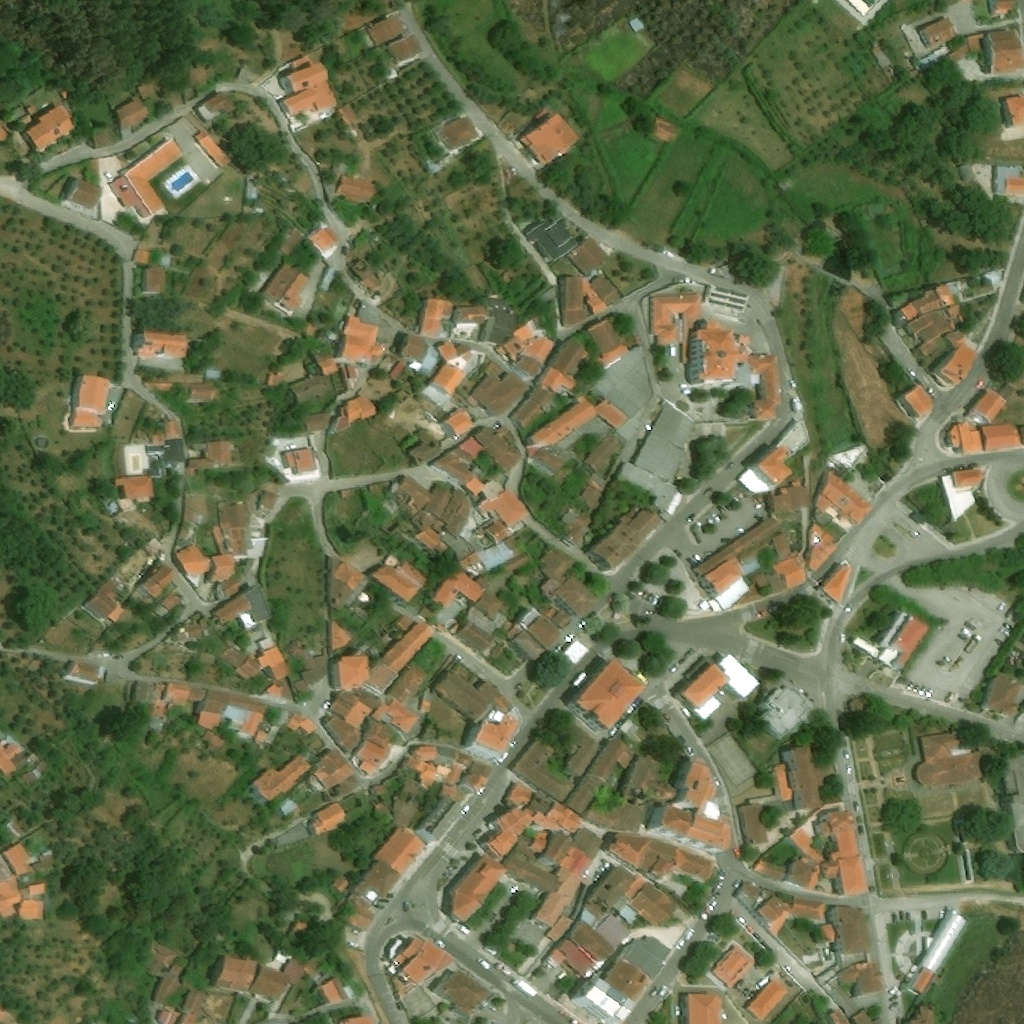0 no-damage: (687, 320, 780, 419), (650, 759, 727, 858), (566, 657, 647, 733), (908, 911, 968, 997), (532, 394, 632, 444), (697, 517, 781, 575), (595, 502, 665, 570), (590, 343, 653, 417), (125, 138, 185, 215), (512, 735, 576, 804), (916, 729, 989, 788), (452, 854, 509, 925), (616, 459, 685, 517), (433, 669, 502, 721), (281, 56, 338, 116), (517, 113, 581, 166), (392, 936, 458, 987), (815, 469, 875, 525), (553, 714, 604, 777), (378, 622, 434, 675), (253, 755, 312, 805), (574, 976, 636, 1023), (535, 866, 582, 927), (589, 865, 646, 915), (883, 611, 931, 670), (470, 372, 531, 418), (258, 261, 311, 312), (524, 217, 580, 265), (432, 970, 490, 1016), (487, 805, 536, 859), (760, 686, 807, 742), (636, 433, 689, 482), (649, 296, 701, 345), (416, 795, 466, 844), (25, 103, 77, 150), (818, 908, 872, 952), (377, 826, 426, 874), (588, 738, 639, 784), (504, 855, 564, 894), (942, 468, 984, 523), (587, 317, 631, 369), (70, 375, 112, 429), (431, 569, 485, 609), (652, 402, 697, 450), (682, 663, 730, 708), (556, 573, 604, 617), (624, 936, 673, 979), (630, 883, 679, 926), (819, 810, 861, 860), (481, 489, 532, 529), (774, 748, 806, 811), (338, 321, 387, 362), (719, 654, 763, 699), (711, 944, 755, 989), (476, 428, 522, 471), (606, 959, 652, 1002), (573, 919, 617, 963), (110, 174, 153, 219), (746, 978, 790, 1021), (354, 860, 402, 899), (585, 524, 624, 572), (548, 939, 597, 977), (583, 433, 626, 476), (511, 385, 553, 429), (370, 566, 421, 602), (292, 654, 331, 701), (584, 801, 647, 830), (311, 749, 355, 790), (566, 237, 610, 278), (756, 894, 795, 940), (217, 500, 249, 556), (838, 961, 886, 998), (628, 751, 670, 793), (475, 714, 521, 752), (824, 856, 868, 895), (639, 843, 682, 882), (938, 344, 981, 383), (211, 956, 255, 994), (205, 690, 269, 715), (136, 330, 189, 360), (984, 676, 1023, 716), (85, 579, 123, 620), (288, 374, 335, 407), (759, 442, 795, 485), (609, 834, 654, 868), (566, 775, 604, 815), (560, 503, 594, 547), (363, 13, 408, 46), (973, 385, 1011, 424), (909, 309, 955, 341), (486, 297, 517, 344), (990, 29, 1023, 73), (790, 827, 829, 864), (703, 558, 743, 594), (438, 116, 479, 151), (902, 287, 944, 321), (197, 90, 240, 123), (703, 286, 750, 316), (390, 666, 428, 703), (540, 546, 577, 584), (194, 132, 233, 168), (808, 523, 836, 572), (326, 716, 363, 753), (249, 966, 287, 1002), (713, 576, 751, 612), (435, 452, 477, 484), (455, 621, 497, 653), (738, 803, 769, 846), (410, 428, 445, 466), (213, 593, 254, 625), (443, 488, 470, 536), (597, 913, 634, 948), (525, 614, 563, 648), (899, 382, 933, 420), (421, 297, 454, 336), (772, 479, 811, 512), (919, 17, 960, 48), (400, 474, 435, 510), (309, 802, 346, 836), (554, 338, 587, 376), (336, 174, 375, 206), (679, 994, 722, 1023), (386, 699, 421, 734), (561, 278, 585, 329), (357, 740, 391, 776), (574, 474, 608, 510), (637, 580, 677, 610), (258, 644, 291, 680), (737, 463, 776, 493), (245, 582, 274, 622), (512, 629, 546, 663), (150, 973, 183, 1008), (68, 177, 103, 210), (434, 364, 469, 397), (189, 441, 230, 469), (333, 655, 370, 686), (984, 424, 1023, 453), (385, 35, 422, 65), (677, 850, 714, 880), (822, 566, 851, 604), (572, 827, 605, 860), (115, 99, 151, 129), (548, 802, 584, 832), (392, 560, 429, 589), (478, 542, 516, 570), (952, 423, 986, 454), (176, 544, 211, 574), (591, 273, 621, 308), (533, 446, 568, 476), (474, 589, 507, 620), (774, 557, 805, 590), (2, 842, 32, 876), (332, 562, 366, 592), (754, 855, 789, 884), (647, 118, 683, 146), (542, 366, 579, 393), (788, 860, 820, 891), (392, 795, 422, 828), (365, 663, 399, 692), (283, 448, 318, 476), (307, 225, 340, 254), (546, 830, 576, 861), (562, 847, 593, 877), (113, 477, 156, 498), (344, 904, 375, 933), (467, 606, 498, 634), (168, 683, 207, 705), (914, 336, 948, 361), (319, 976, 349, 1004), (522, 337, 553, 364), (346, 397, 378, 423), (997, 164, 1023, 196), (345, 699, 374, 727), (426, 486, 452, 517), (563, 638, 590, 667), (851, 633, 881, 659), (461, 552, 490, 578), (446, 411, 476, 436), (793, 898, 827, 920), (179, 988, 206, 1015), (152, 563, 179, 590), (209, 554, 236, 581), (414, 527, 441, 554), (368, 721, 396, 747), (548, 915, 574, 943), (283, 958, 307, 988), (443, 784, 475, 806), (503, 551, 533, 574), (0, 878, 21, 910), (330, 621, 353, 650), (586, 281, 606, 314), (202, 729, 227, 755), (24, 760, 49, 786), (188, 64, 215, 88), (0, 743, 19, 777), (454, 307, 484, 328), (403, 334, 427, 360), (516, 354, 543, 377), (695, 698, 723, 720), (934, 281, 956, 309), (304, 958, 328, 983), (241, 712, 266, 736), (301, 412, 331, 432), (464, 769, 489, 792), (254, 490, 279, 513), (485, 521, 510, 544), (329, 694, 354, 717), (460, 437, 487, 458), (280, 794, 303, 818), (509, 781, 532, 805), (504, 534, 529, 556), (547, 608, 572, 630), (236, 659, 262, 680), (288, 714, 315, 734), (535, 812, 563, 831), (146, 269, 168, 293), (530, 791, 552, 815), (69, 662, 99, 679), (1006, 95, 1023, 125), (444, 763, 465, 787), (164, 440, 185, 464), (198, 711, 223, 731), (3, 818, 24, 841), (337, 103, 358, 126), (438, 340, 461, 361), (134, 680, 154, 704), (223, 647, 247, 667), (20, 900, 42, 921), (143, 577, 165, 598), (220, 578, 240, 601), (948, 305, 967, 329), (178, 623, 203, 641), (163, 418, 184, 439), (271, 945, 293, 965), (483, 480, 505, 500), (740, 881, 762, 901), (421, 762, 437, 789), (329, 875, 350, 895), (318, 355, 340, 374), (138, 79, 160, 98), (267, 368, 290, 386), (420, 691, 438, 714), (1001, 98, 1015, 127), (225, 705, 250, 721), (521, 609, 541, 629), (162, 592, 183, 611), (389, 359, 408, 380), (503, 336, 524, 355), (189, 384, 215, 399), (529, 833, 549, 852), (825, 1008, 850, 1023), (467, 477, 487, 494), (852, 1009, 876, 1023), (908, 1011, 936, 1023), (149, 699, 167, 717), (110, 604, 128, 622), (515, 324, 532, 343), (134, 247, 152, 264), (628, 17, 646, 34), (753, 573, 771, 590), (63, 177, 76, 200), (213, 526, 224, 553), (372, 703, 389, 720), (155, 1010, 176, 1023), (373, 801, 390, 817), (415, 747, 437, 759), (16, 114, 34, 128), (408, 759, 427, 772), (176, 1012, 198, 1023), (335, 416, 350, 432), (490, 708, 506, 723), (340, 1016, 373, 1023), (204, 369, 222, 380), (254, 728, 268, 742), (259, 636, 273, 650), (409, 359, 424, 371), (0, 125, 9, 144), (27, 105, 39, 117), (34, 883, 45, 895), (151, 434, 164, 443), (149, 468, 161, 477), (750, 401, 756, 419), (146, 445, 163, 451)
4 un-classified: (846, 0, 875, 16), (989, 0, 1018, 16), (0, 1005, 7, 1023)
